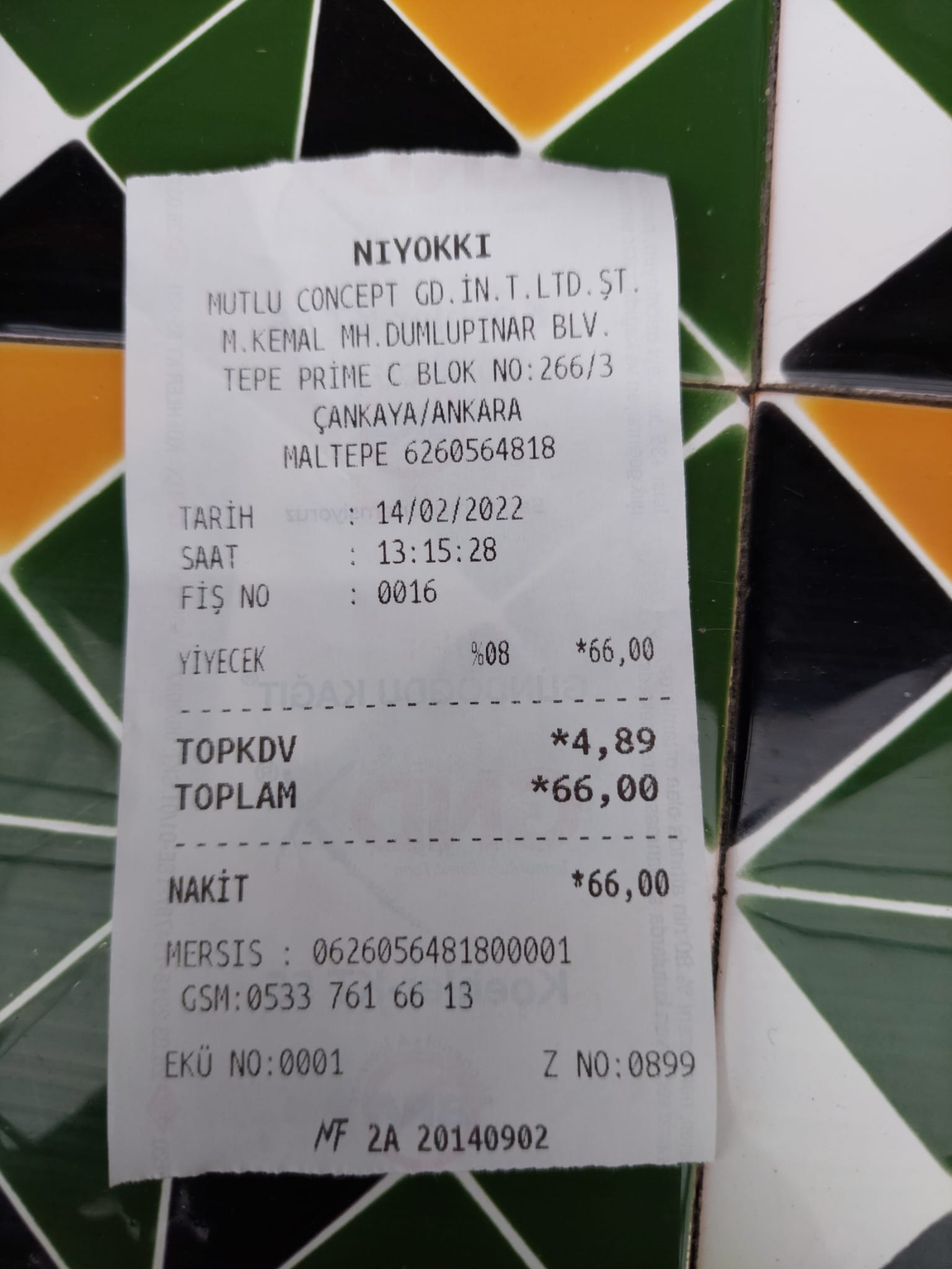date: (547, 761, 678, 822)
price: (370, 491, 532, 530)
workplace: (186, 212, 651, 431)
